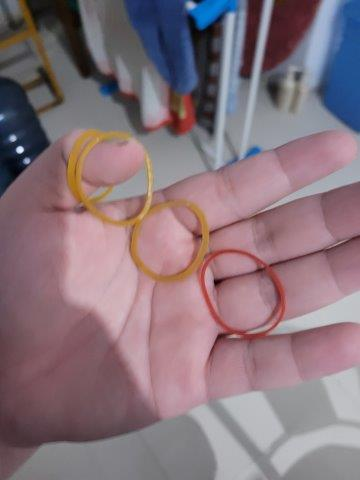karet: (66, 128, 151, 223), (202, 249, 287, 341), (129, 200, 210, 281)
